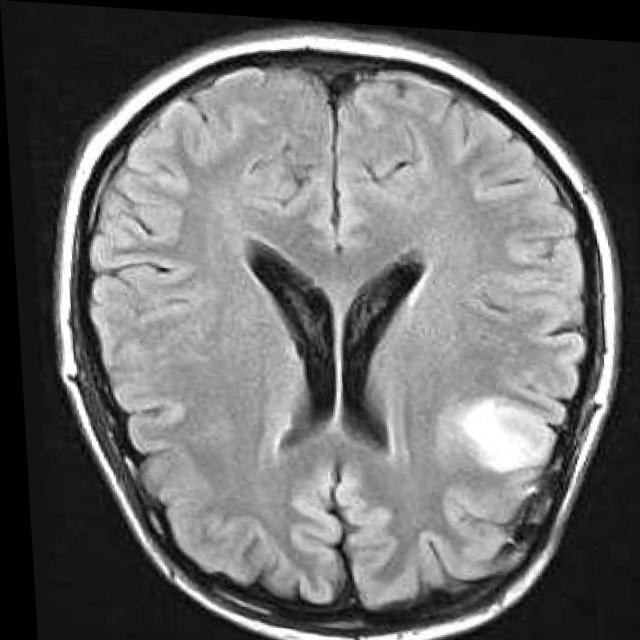Tumor: (454, 398, 553, 465)
